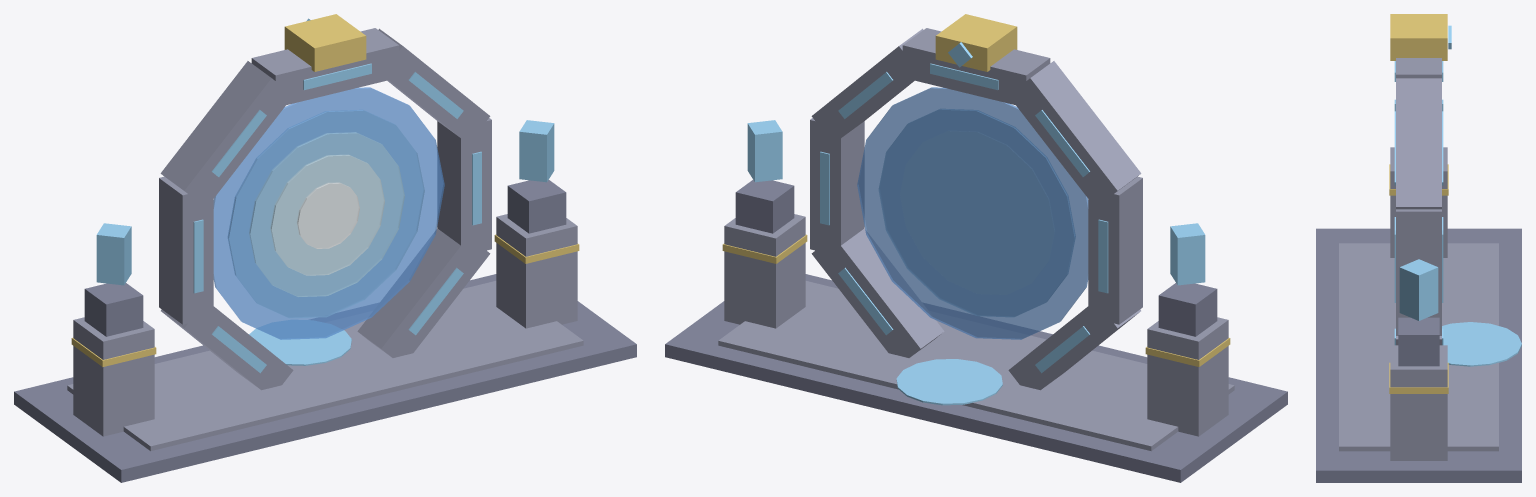
The model's file is BattlegroundPortal.fbx.
3 views of the same model, side by side, from view 1: azimuth 30°, elevation 25°; view 2: azimuth 150°, elevation 25°; view 3: azimuth 270°, elevation 25° (orthographic). The views are drawn at different scales.
Parts seen in each view (by area): view 1: Portal_Swirl, Base.001, Portal_Swirl.001, Base, Portal_Swirl.002, Portal_Swirl.003, Pylon, Ring.006, Pylon.002, Ring.003, Ring.005, Ring.002 (+19 smaller); view 2: Portal_Swirl, Portal_Swirl.001, Base.001, Base, Pylon, Ring.006, Pylon.002, Ring.003, Ring.005, Ring.002, Ring, Base_Rune (+16 smaller); view 3: Base.001, Base, Ring.001, Pylon.002, Ring.002, Base_Rune, Keystone, Pylon_Crystal.001, Pylon.003, Pylon, Ring, Pylon_Band.001.
Part boxes in pixels (<box>): Portal_Swirl: <box>213,87,444,339</box>; Base.001: <box>67,281,583,451</box>; Portal_Swirl.001: <box>228,110,424,318</box>; Base: <box>14,274,636,482</box>; Portal_Swirl.002: <box>249,132,404,296</box>; Portal_Swirl.003: <box>270,155,384,275</box>; Pylon: <box>73,317,154,436</box>; Ring.006: <box>160,61,292,204</box>; Pylon.002: <box>496,214,577,328</box>; Ring.003: <box>357,228,490,357</box>; Ring.005: <box>159,176,213,324</box>; Ring.002: <box>437,118,491,256</box>; Portal_Swirl: <box>857,87,1088,339</box>; Portal_Swirl.001: <box>879,109,1075,316</box>; Base.001: <box>718,281,1234,451</box>; Base: <box>665,274,1287,482</box>; Pylon: <box>1147,317,1228,436</box>; Ring.006: <box>1009,61,1141,206</box>; Pylon.002: <box>724,214,805,328</box>; Ring.003: <box>811,228,944,357</box>; Ring.005: <box>1088,176,1142,324</box>; Ring.002: <box>810,118,864,256</box>; Ring: <box>902,28,1050,107</box>; Base_Rune: <box>896,359,1002,405</box>; Base.001: <box>1339,243,1498,451</box>; Base: <box>1316,228,1521,482</box>; Ring.001: <box>1396,78,1441,209</box>; Pylon.002: <box>1390,345,1447,460</box>; Ring.002: <box>1396,209,1441,335</box>; Base_Rune: <box>1442,322,1521,366</box>; Keystone: <box>1390,14,1447,60</box>; Pylon_Crystal.001: <box>1399,259,1438,320</box>; Pylon.003: <box>1398,317,1439,366</box>; Pylon: <box>1390,147,1447,257</box>; Ring: <box>1396,58,1441,78</box>; Pylon_Band.001: <box>1389,362,1448,393</box>.
Size of the model in its own units: 1400 by 908 by 504.
